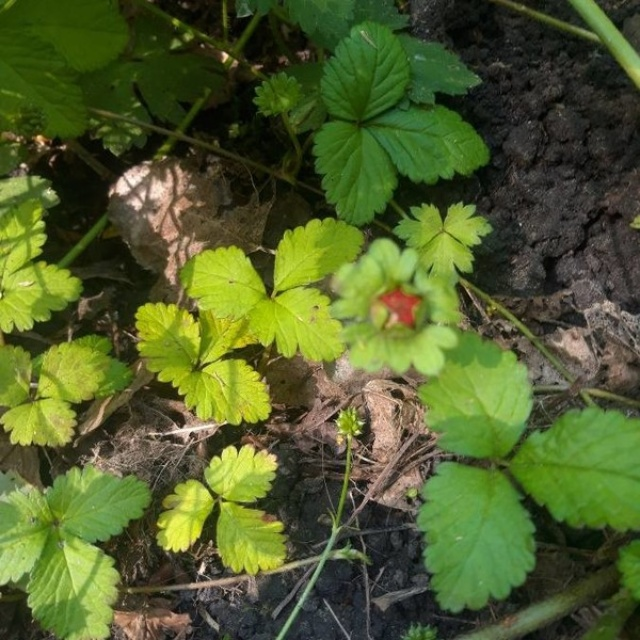obstacle: (254, 39, 623, 588), (19, 217, 337, 608)
